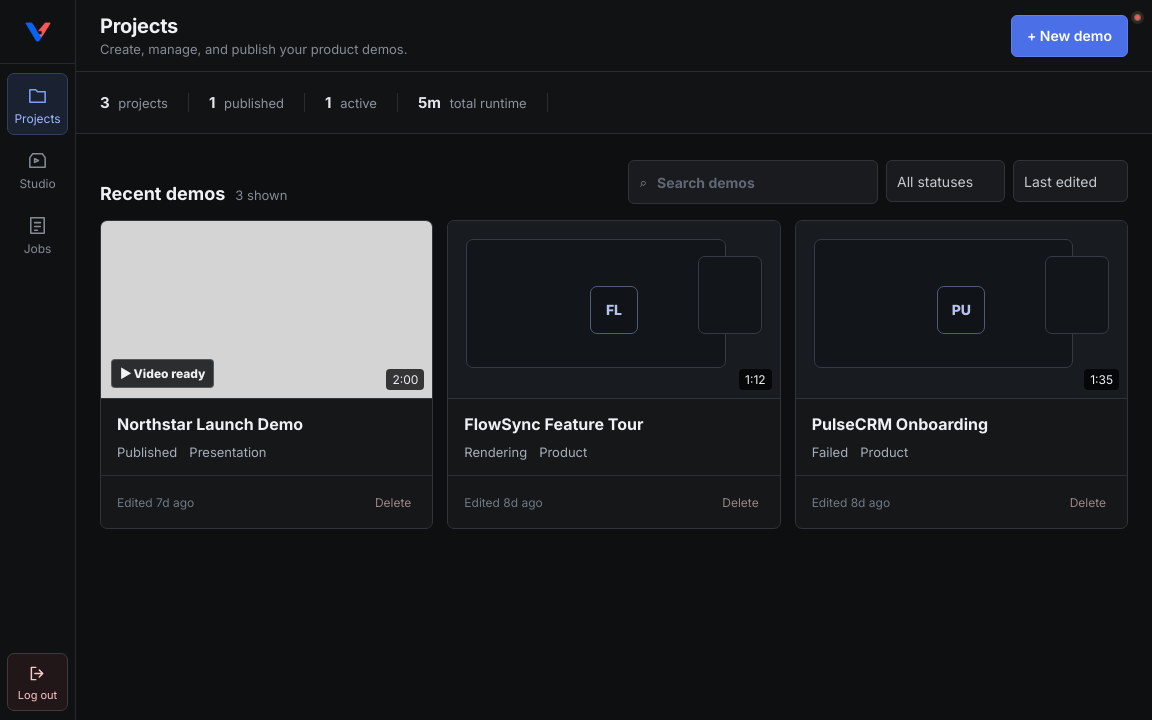
Scenario: DemoLibrary › searches and filters project cards
Expected: the heading "FlowSync Feature Tour" is shown, [464,414,643,434]
Type "Pulse" into the field named "Search demos".
click(762, 182); type("Pulse")  # box [647,161,877,203]
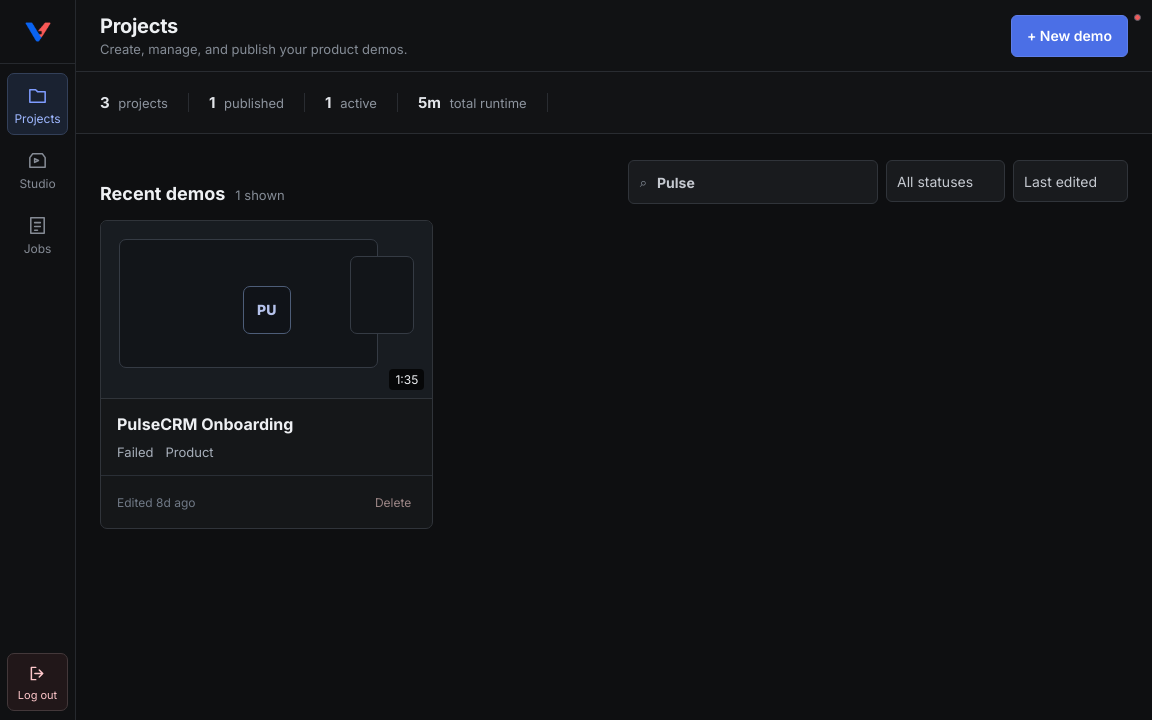
Expected: the heading "PulseCRM Onboarding" is shown, [117,414,294,434]
Expected: the link "FlowSync Feature Tour" is gone
